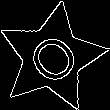O_SE: (19, 24, 85, 91)
